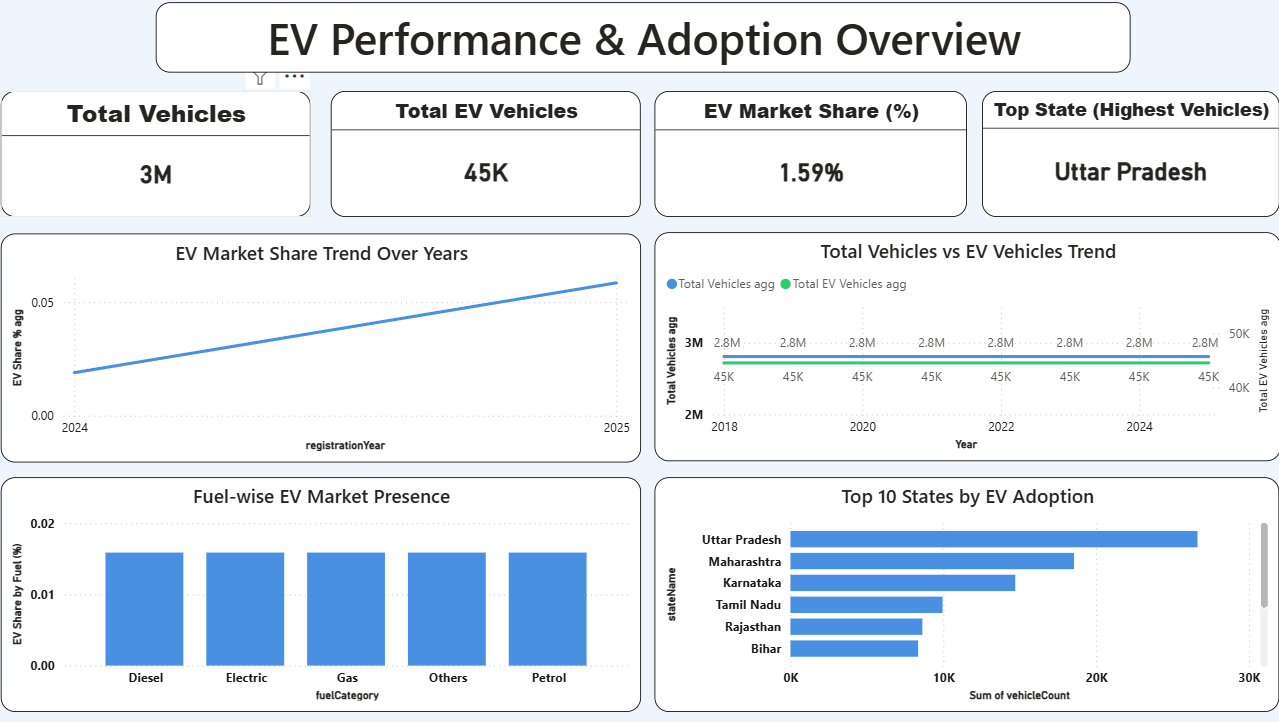

What the dashboard file says about the page in this screenshot:
{"tool":"powerbi","page":{"name":"kpi&trends","canvas":[1280,720],"ordinal":3},"visuals":[{"type":"card","title":"Total Vehicles","fields":{"Values":["Sum(vehicle_agg_cleaned.vehicleCount)"]},"box":[13.5,97.8,303.3,123.5],"z":0},{"type":"card","title":"Top State (Highest Vehicles)","fields":{"Values":["vehicle_agg_cleaned.Top State"]},"box":[973.4,97.8,291,123.5],"z":1000},{"type":"card","title":"Total EV Vehicles","fields":{"Values":["vehicle_raw_cleaned.Total EV Vehicles"]},"box":[336.3,97.8,303.3,123.5],"z":2000},{"type":"card","title":"EV Market Share (%)","fields":{"Values":["vehicle_raw_cleaned.EV Share %"]},"box":[653,97.8,305.7,123.5],"z":3000},{"type":"lineChart","title":"EV Market Share Trend Over Years","fields":{"Category":["vehicle_raw_cleaned.registrationYear"],"Y":["vehicle_agg_cleaned.EV Share % agg"]},"box":[13.5,237.2,626.1,223.8],"z":4000},{"type":"lineChart","title":"Total Vehicles vs EV Vehicles Trend","fields":{"Category":["vehicle_agg_cleaned.registrationMonth.Variation.Date Hierarchy.Year"],"Y":["vehicle_agg_cleaned.Total Vehicles agg"],"Y2":["vehicle_agg_cleaned.Total EV Vehicles agg"]},"box":[653,236,612.6,223.8],"z":5000},{"type":"clusteredColumnChart","title":"Fuel-wise EV Market Presence","fields":{"Category":["vehicle_agg_cleaned.fuelCategory"],"Y":["vehicle_agg_cleaned.EV Share by Fuel (%)"]},"box":[13.5,475.7,626.1,229.9],"z":6000},{"type":"clusteredBarChart","title":"Top 10 States by EV Adoption","fields":{"Category":["vehicle_agg_cleaned.stateName"],"Y":["Sum(vehicle_agg_cleaned.vehicleCount)"]},"box":[653,475.7,611.4,229.9],"z":7000},{"type":"textbox","title":"EV Performance & Adoption Overview","box":[165.1,11,953.8,68.5],"z":8000}]}

Visuals, with their boxes in screenshot pixels (x1, y1, x2, y2), scaled from the page's 1280x720 canvas onto the 1279x722 screenshot:
"Total Vehicles" card: <region>13, 98, 317, 222</region>
"Top State (Highest Vehicles)" card: <region>973, 98, 1263, 222</region>
"Total EV Vehicles" card: <region>336, 98, 639, 222</region>
"EV Market Share (%)" card: <region>652, 98, 958, 222</region>
"EV Market Share Trend Over Years" lineChart: <region>13, 238, 639, 462</region>
"Total Vehicles vs EV Vehicles Trend" lineChart: <region>652, 237, 1265, 461</region>
"Fuel-wise EV Market Presence" clusteredColumnChart: <region>13, 477, 639, 708</region>
"Top 10 States by EV Adoption" clusteredBarChart: <region>652, 477, 1263, 708</region>
"EV Performance & Adoption Overview" textbox: <region>165, 11, 1118, 80</region>
